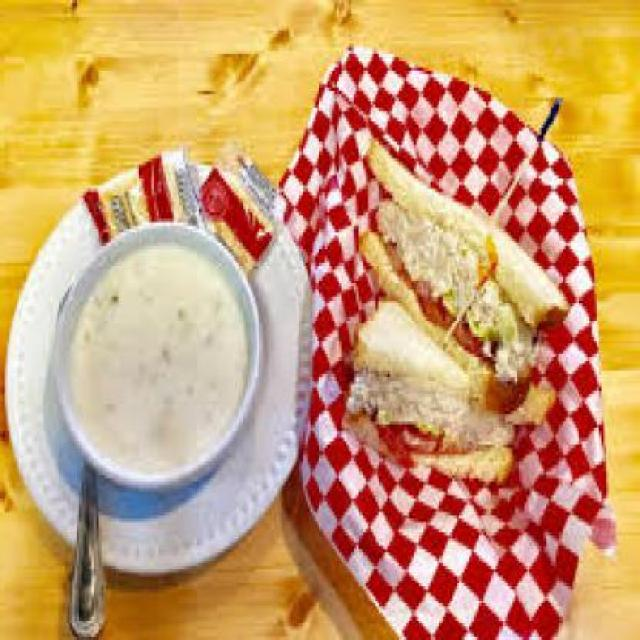clam chowder: (36, 218, 262, 498)
club sandwich: (336, 155, 561, 482)
